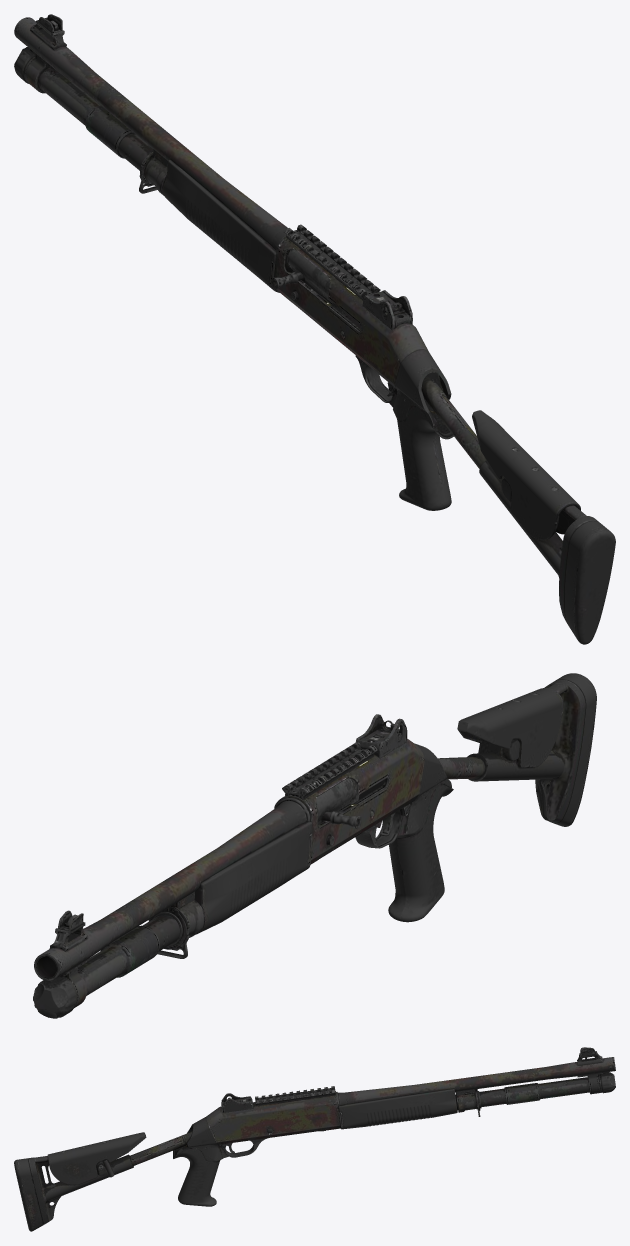
3 renders of one model, top to bottom at view 1: azimuth 30°, elevation 25°; view 2: azimuth 150°, elevation 25°; view 3: azimuth 270°, elevation 25°, orthographic. The views are drawn at different scales.
Parts seen in each view (by area): view 1: p_xm1014; view 2: p_xm1014; view 3: p_xm1014.
Boxes of the visible parts, left/top/right/bottom form: p_xm1014: left=14, top=14, right=615, bottom=644; p_xm1014: left=33, top=673, right=596, bottom=1018; p_xm1014: left=14, top=1047, right=615, bottom=1231.
Bounding box in the file's own units: 0.1232 × 0.3703 × 1.21.
Materials: 1 (1 with a texture image).
